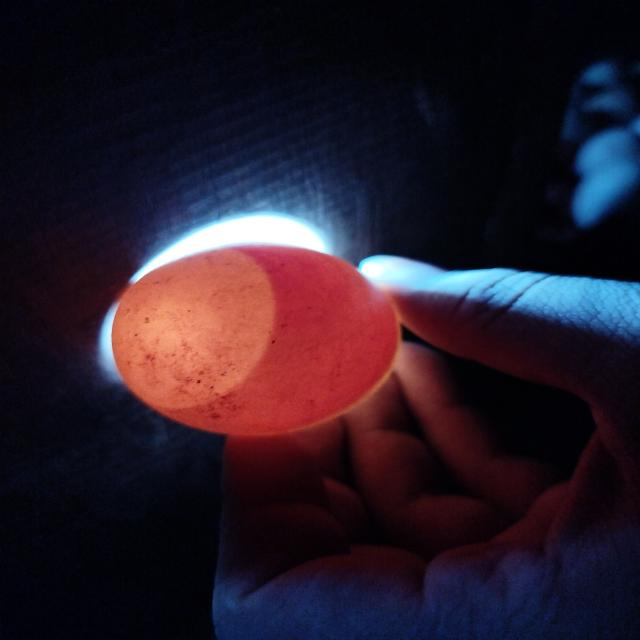Camara de Ar: (111, 246, 275, 408)
